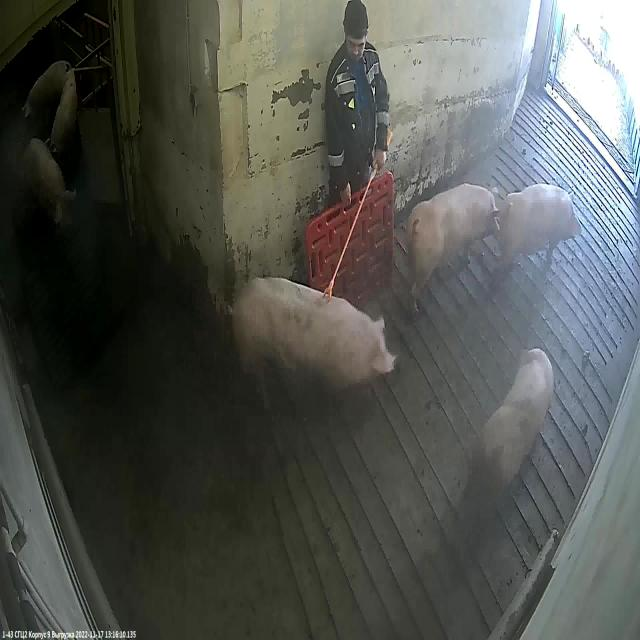pig: (232, 278, 396, 398), (467, 349, 554, 518), (409, 185, 500, 312), (500, 184, 580, 292), (24, 138, 78, 231), (46, 71, 79, 172), (24, 60, 72, 129)
